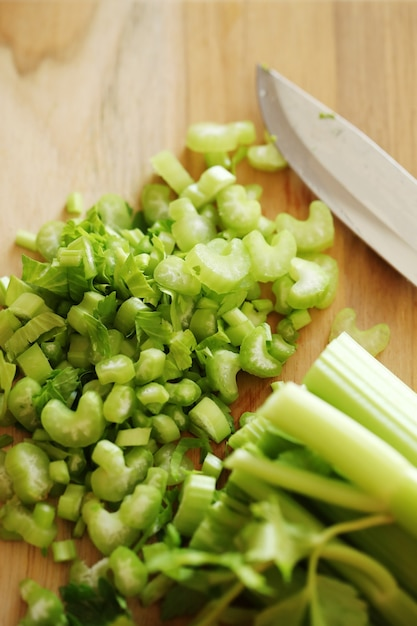knife: (255, 64, 417, 299)
